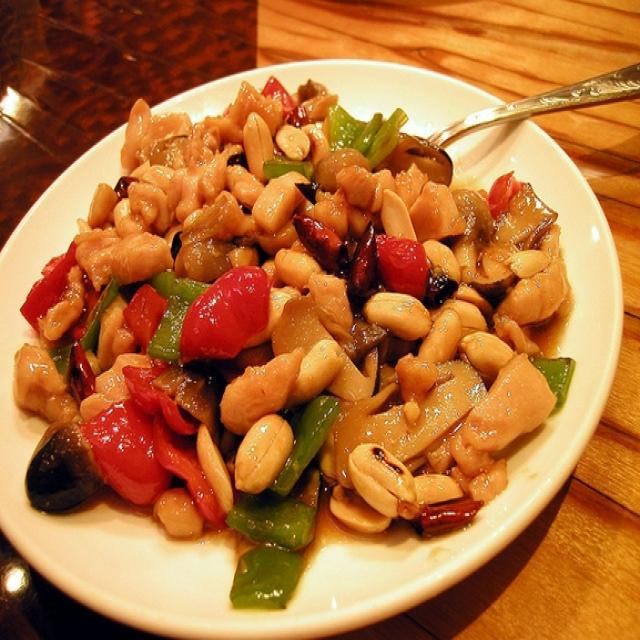鸡肉料理 含炸鸡: (8, 47, 608, 615)
